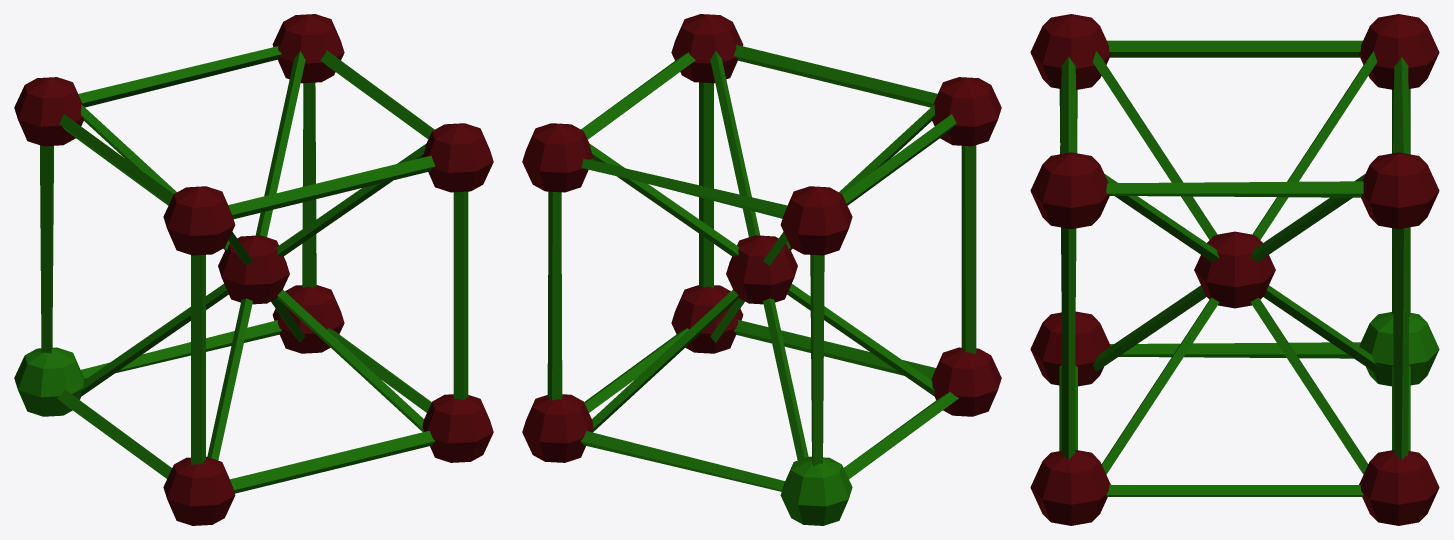
File: 9_Atom.fbx
3 renders of one model, left to right at view 1: azimuth 30°, elevation 25°; view 2: azimuth 150°, elevation 25°; view 3: azimuth 270°, elevation 25°, orthographic. The views are drawn at different scales.
Visible parts, largest first — view 1: Atom; view 2: Atom; view 3: Atom.
Boxes of the visible parts, <box> form: Atom: <box>14,14,493,525</box>; Atom: <box>522,14,1001,525</box>; Atom: <box>1030,14,1439,525</box>.
Bounding box in the file's own units: 100 × 100 × 100.
